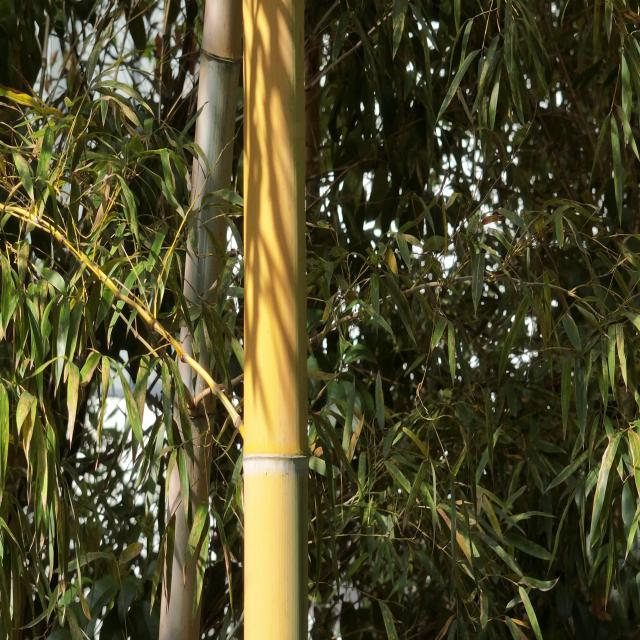Bamboo-shoots: (242, 0, 309, 640)
